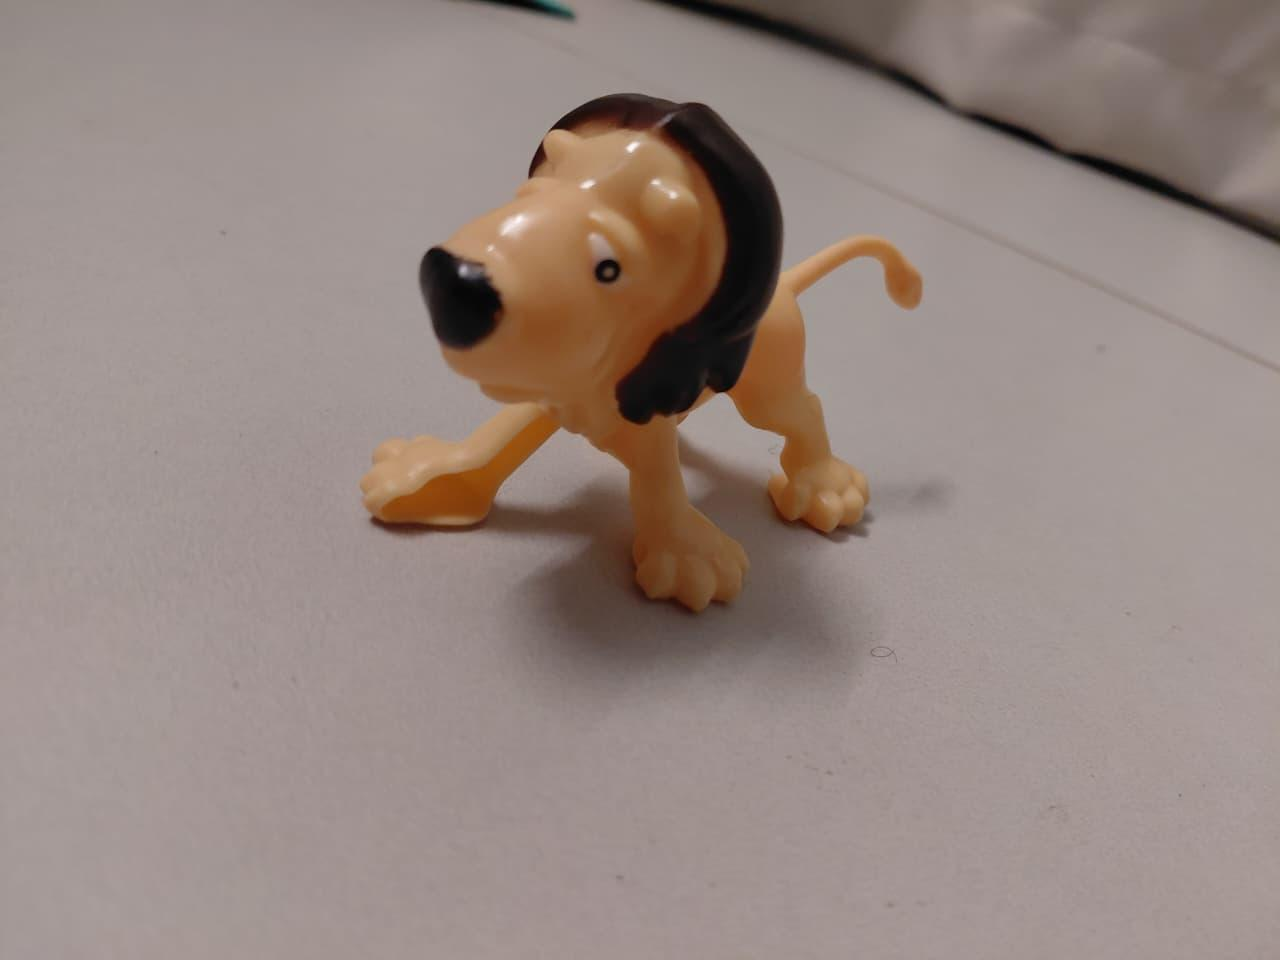lion: (360, 61, 942, 613)
